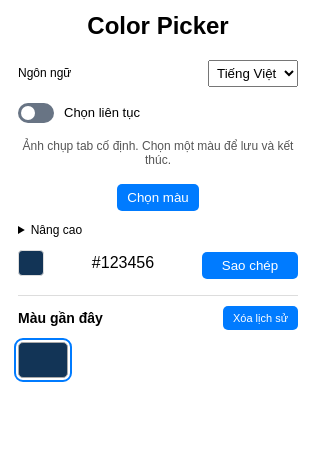
Test: language selection › shows translated language-save errors and keeps the previous preference
Select "English" in the dropdown at (253, 73), box [208, 60, 298, 87]
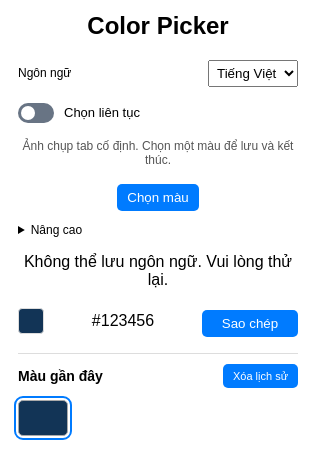
Result: the message shows "Không thể lưu ngôn ngữ" at [24, 253, 292, 288]
